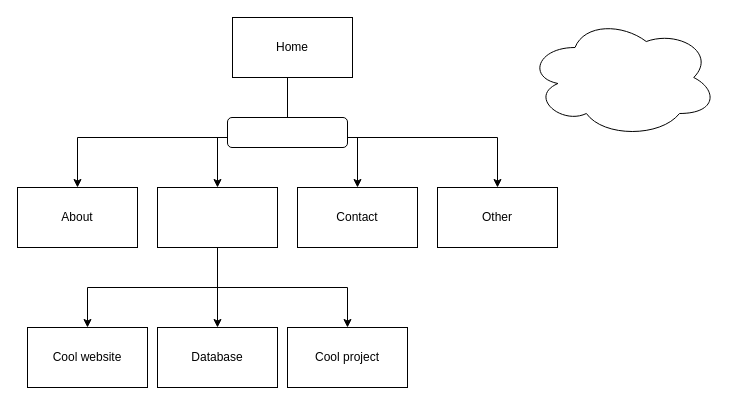
Some shapes in this 735 by 405 pixel diagram are drawn without their labels. Each missing label, with the centre of its shape:
"Navbar" goes at [287,132].
"Navbar Accessible from all pages on this website" goes at [622,77].
"Projects" goes at [217,217].
